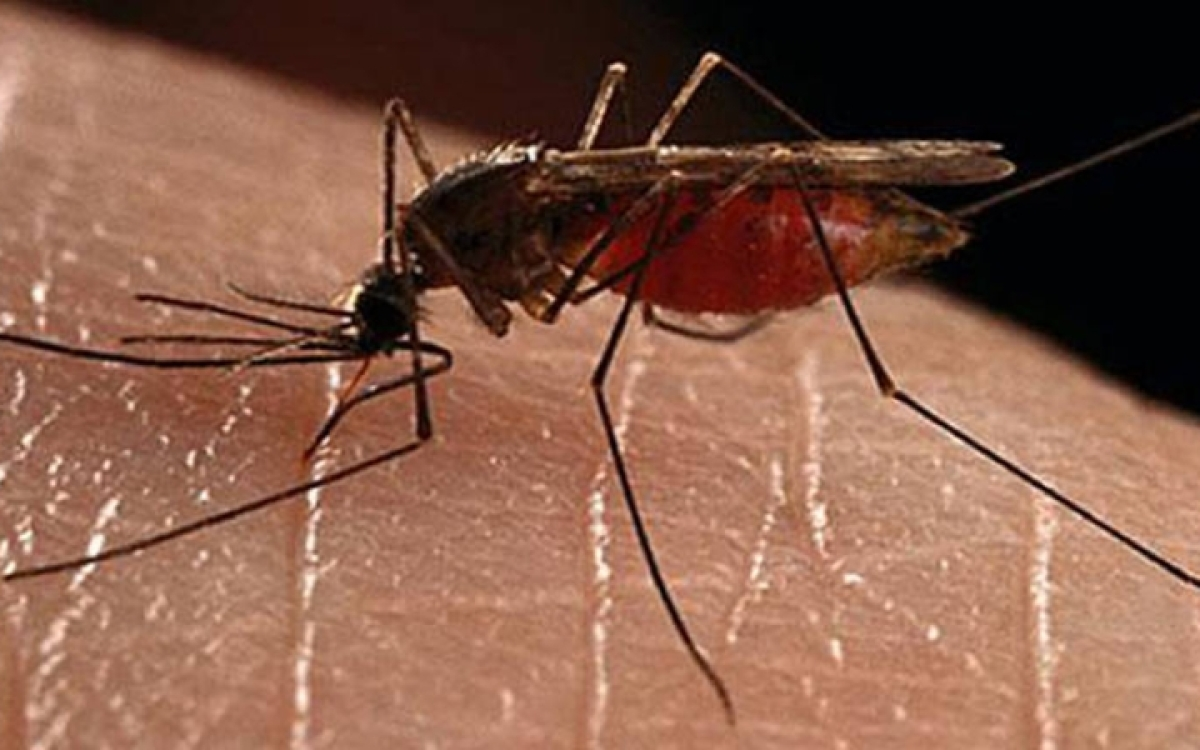dengue_mosquito: (119, 55, 1013, 463)
